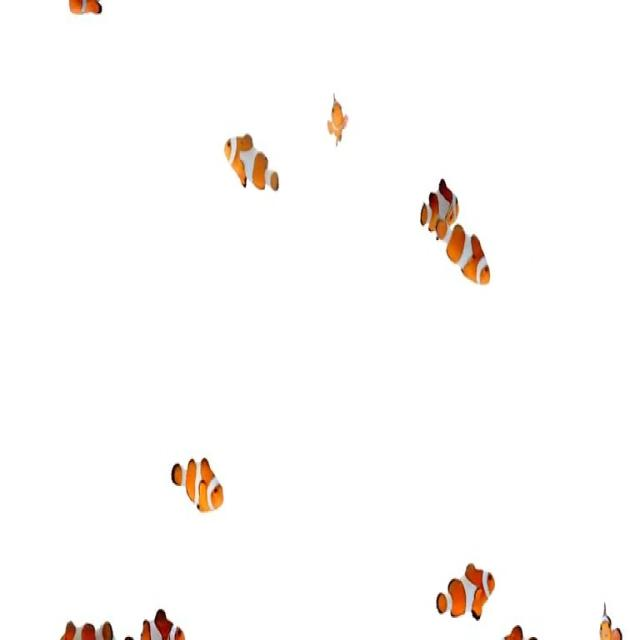fish: (434, 220, 496, 292), (223, 128, 284, 197), (170, 450, 224, 516), (437, 559, 496, 619), (416, 176, 461, 236), (136, 609, 183, 640), (328, 94, 350, 145), (62, 618, 111, 640)
